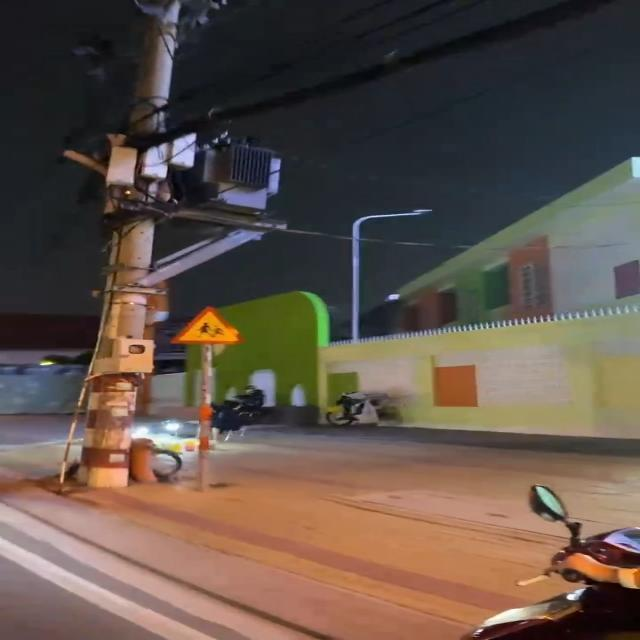225-chu-y-tre-em: (171, 304, 242, 344)
